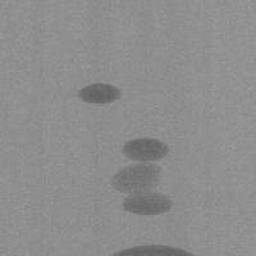Oil spot: (108, 137, 174, 216), (110, 243, 195, 256), (76, 82, 124, 105)
